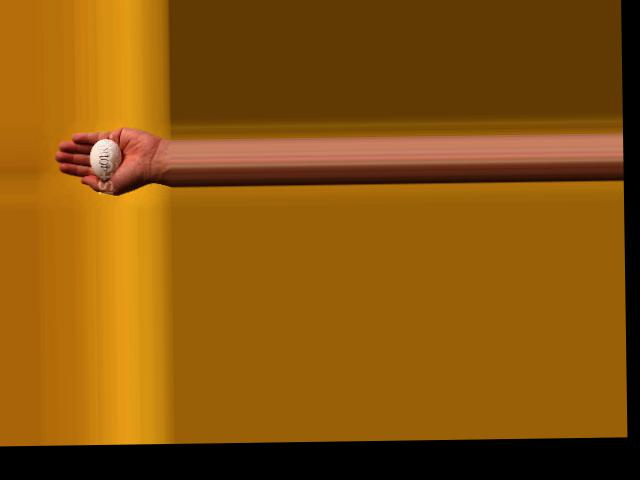egg: (89, 138, 121, 179)
